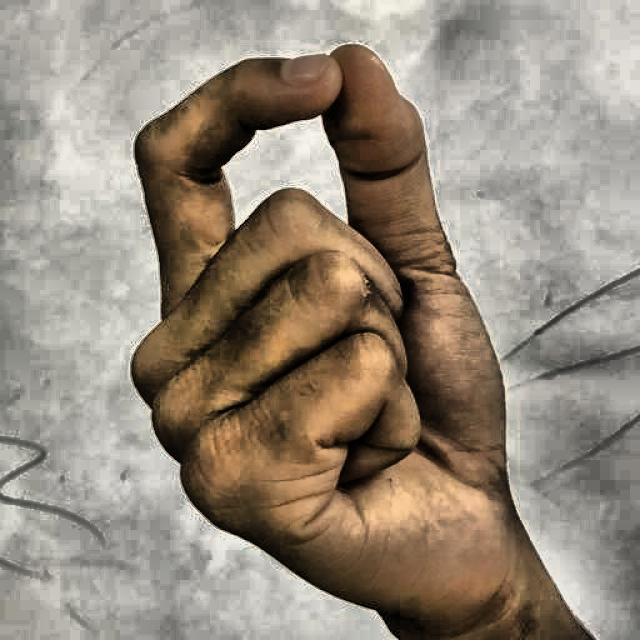Gha: (82, 33, 581, 640)
